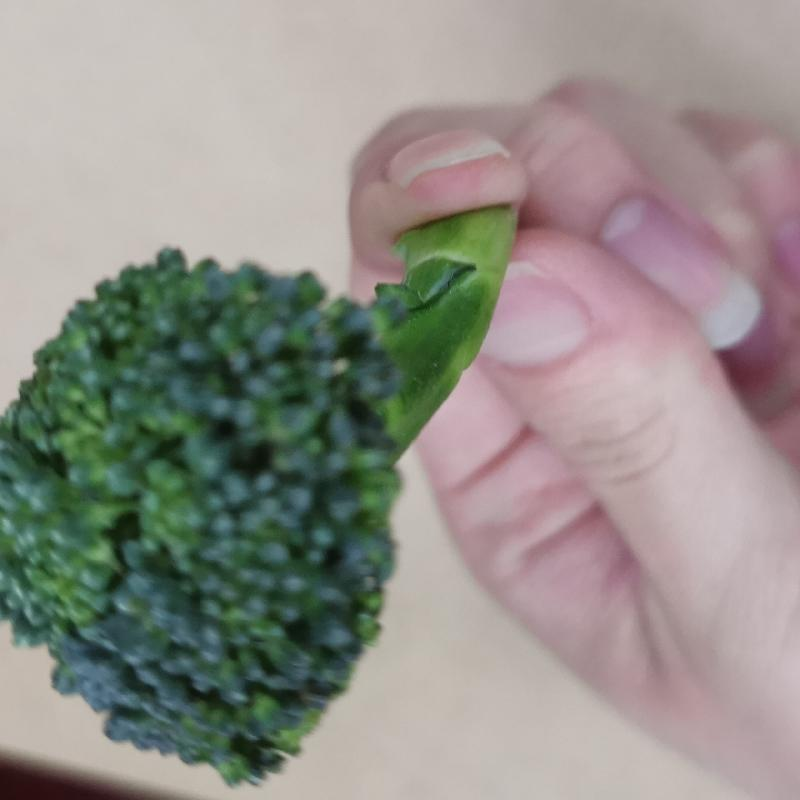broccoli: (0, 170, 529, 788)
